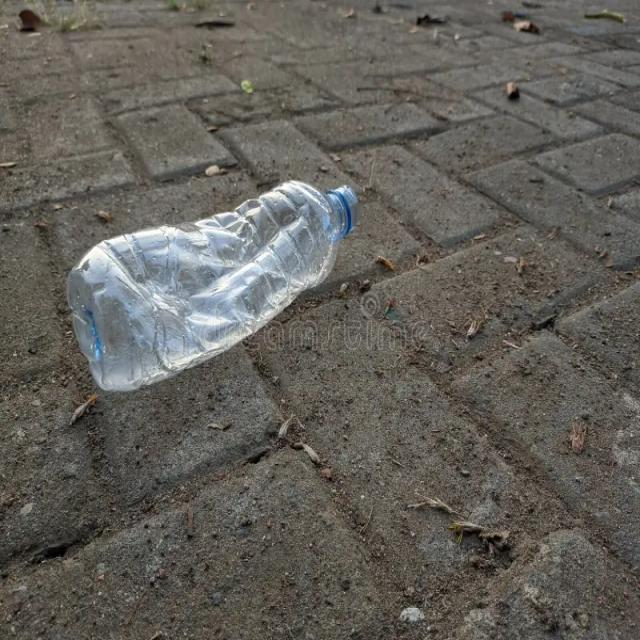plastic_bottle: (66, 175, 370, 392)
